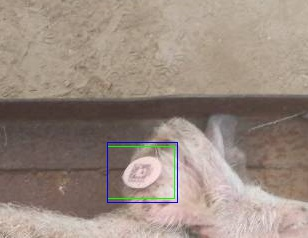text: (107, 146, 174, 198)
